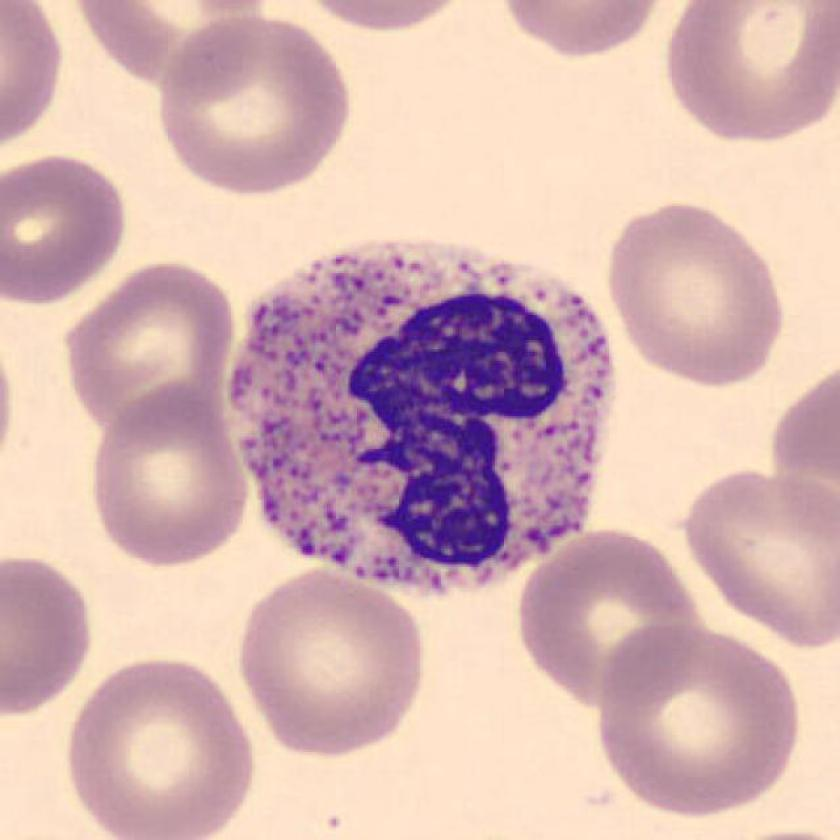neutrophil: (226, 240, 616, 593)
